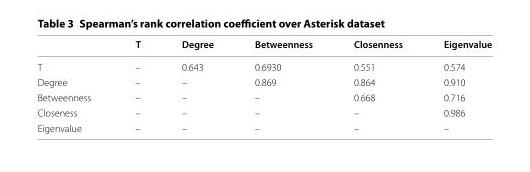table: (36, 37, 491, 133)
table column: (233, 37, 332, 133), (332, 37, 422, 133), (36, 37, 112, 133), (160, 37, 233, 133), (422, 37, 491, 133), (112, 37, 160, 133)
table column header: (36, 37, 491, 55)
table row: (36, 55, 491, 74), (36, 37, 491, 55), (36, 104, 491, 120), (36, 74, 491, 89), (36, 89, 491, 104), (36, 120, 491, 133)
